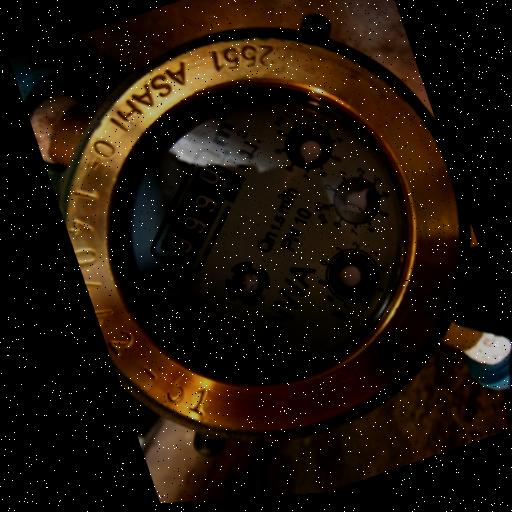0: (203, 151, 233, 207)
9: (175, 173, 232, 230), (165, 201, 203, 250), (155, 223, 193, 271)
border_water_meter_number: (118, 141, 243, 292)
